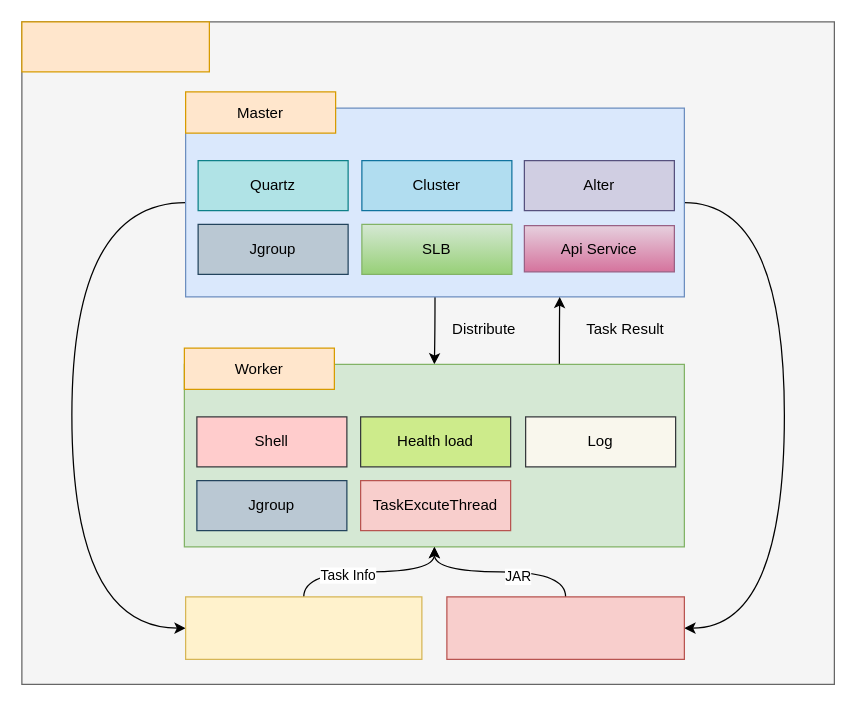
The diagram is 856 pixels wide and 706 high, and some of its shapes have lost their labels. The shapes that lost their labels are listed below. From the top down, each one's centre as x and y in pixels, then its label:
At [115,46]: "Service-Swarm".
At [303,627]: "DB".
At [565,627]: "MINIO".
